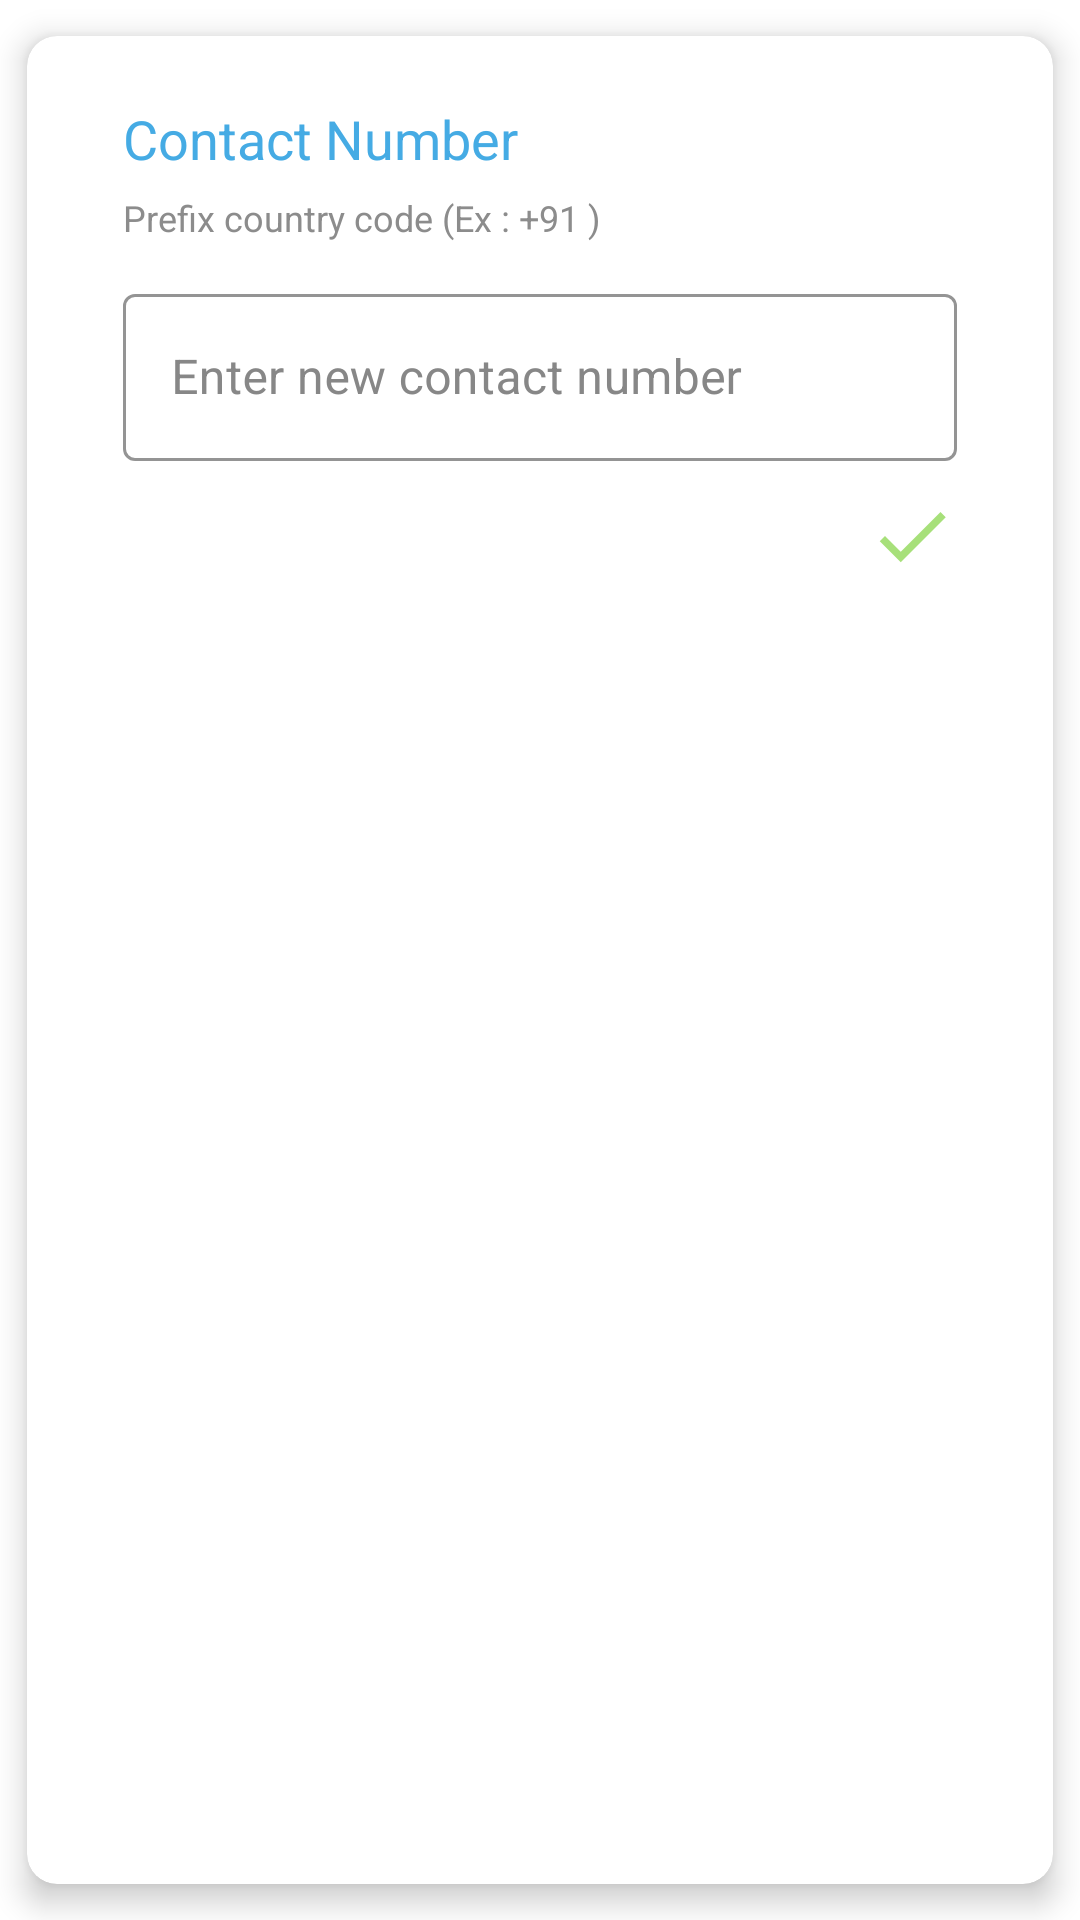

Icon click points for this 1080x1920 phone screenshot, format [x,y]:
done: [913,537]
